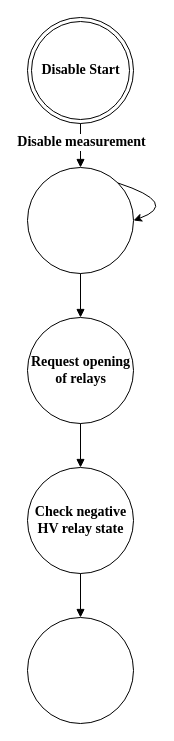
This 174x741 diagram has some shape labels left out. Here are the shapes that lost their labels. From the top down, the box of each, then its label:
(26, 166, 134, 274): Wait for acknowledge
(26, 616, 134, 724): Check positive HV relay state
